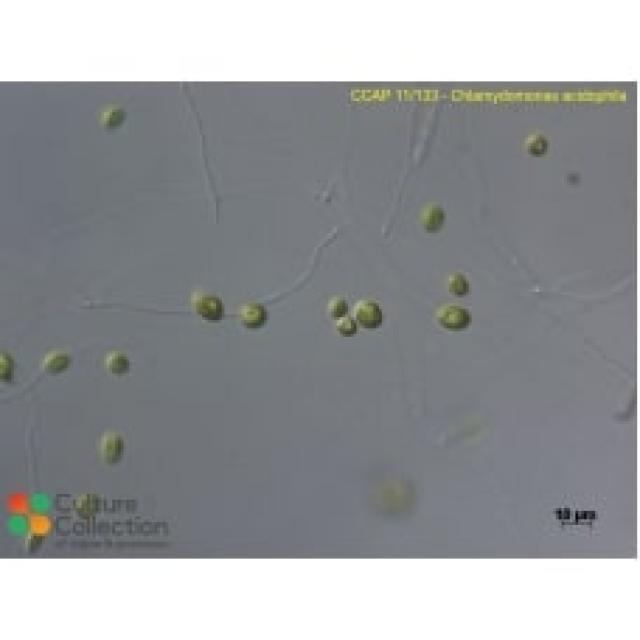Green Algae: (435, 300, 474, 334), (188, 289, 227, 323), (357, 298, 388, 334), (104, 348, 140, 379), (98, 426, 124, 468), (34, 351, 73, 379), (444, 264, 474, 300), (522, 126, 553, 158), (421, 202, 449, 236), (236, 303, 269, 329), (101, 101, 129, 129), (328, 292, 348, 317), (339, 314, 356, 342)
